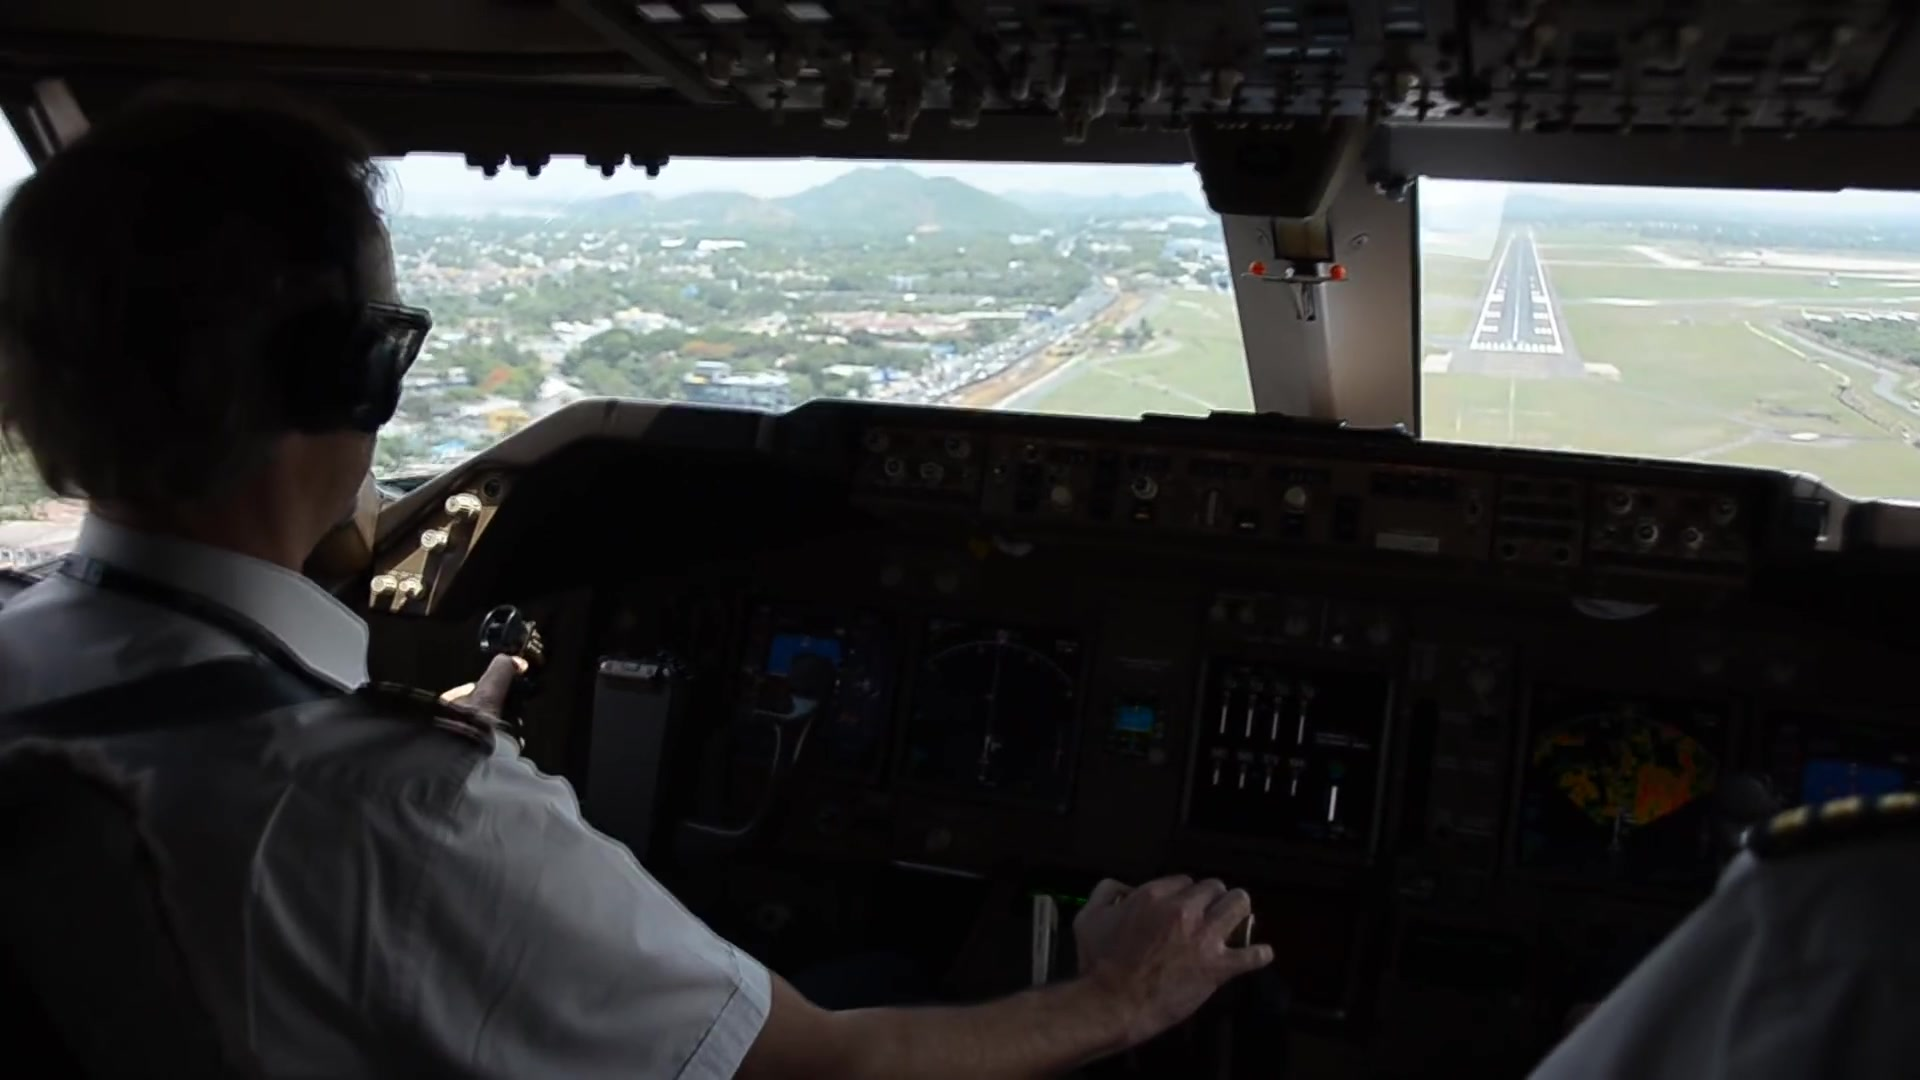entrance: (1480, 340, 1555, 351)
runway: (1449, 225, 1584, 378)
